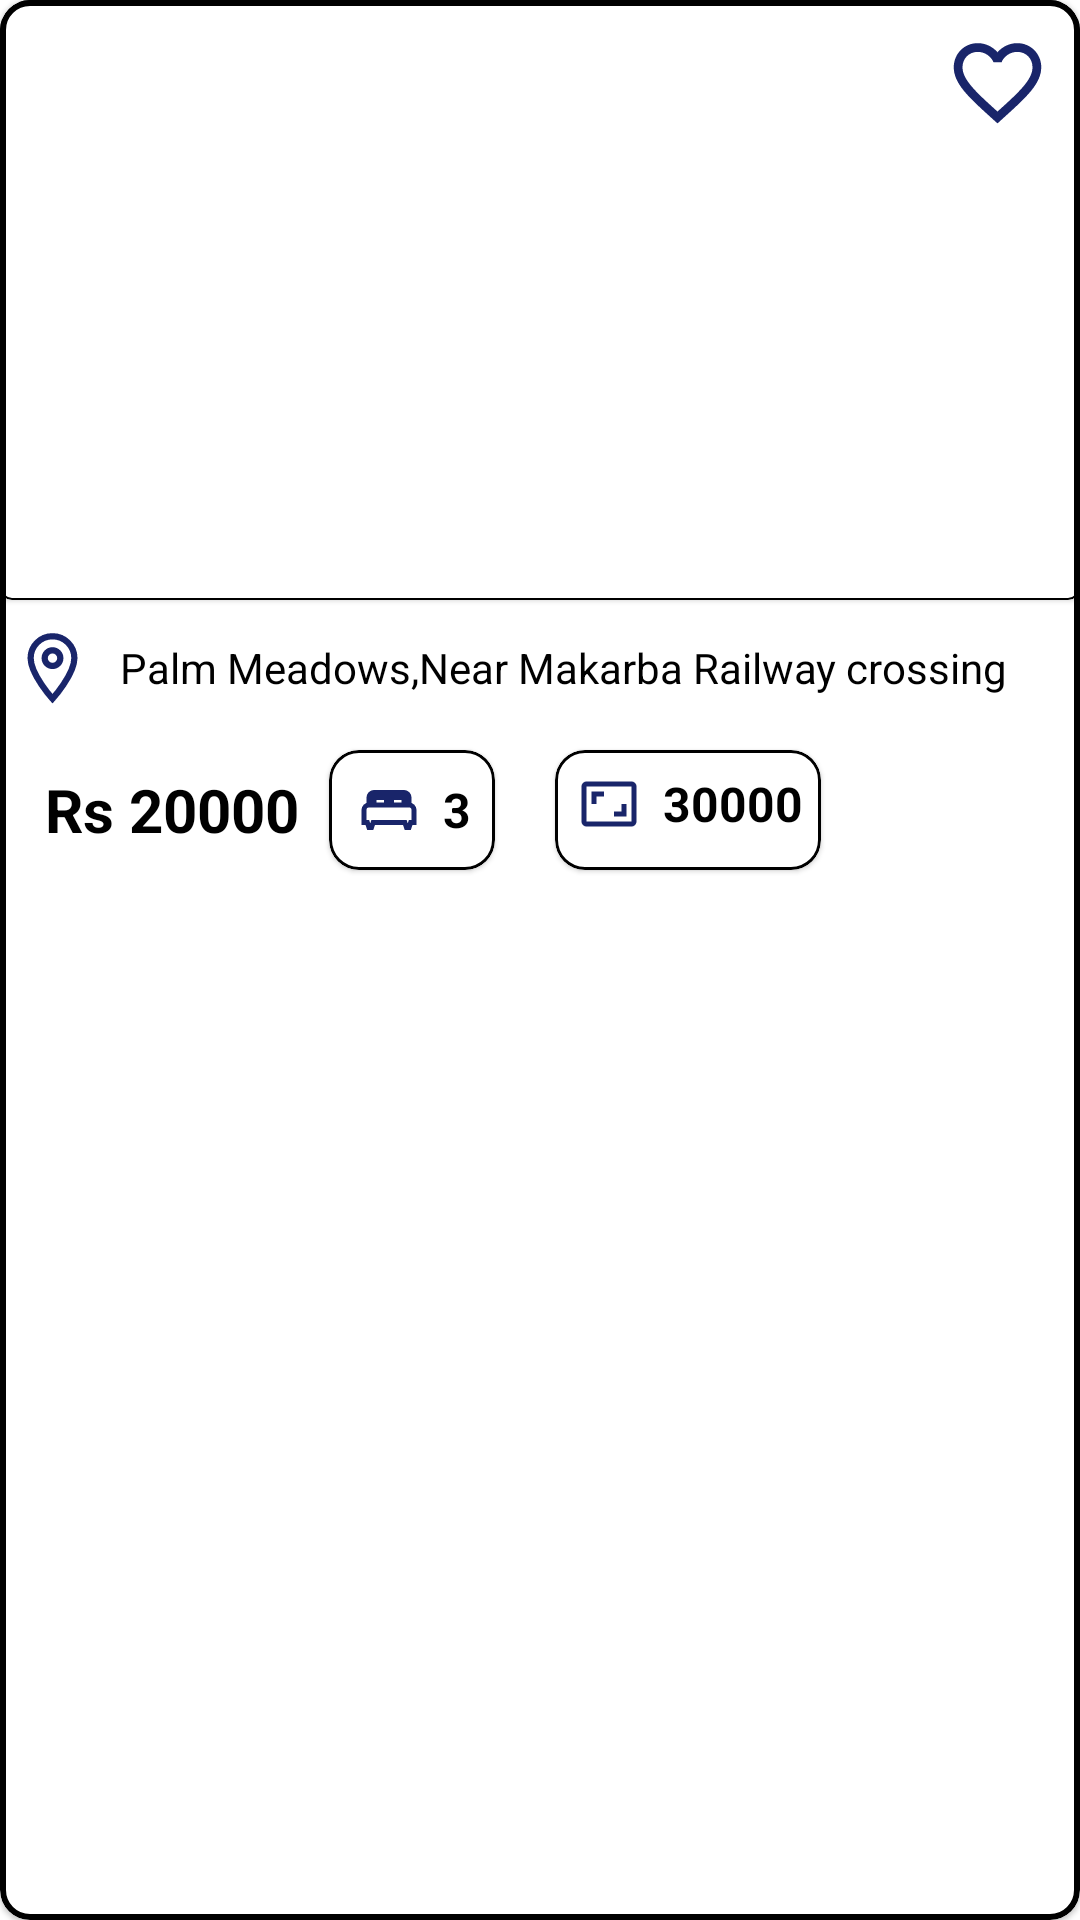

Where to tap for icons on this 1080 x 1920 app screen, as point (x, y):
aspect ratio: point (609, 804)
king bed: point (389, 810)
location on: point (52, 668)
